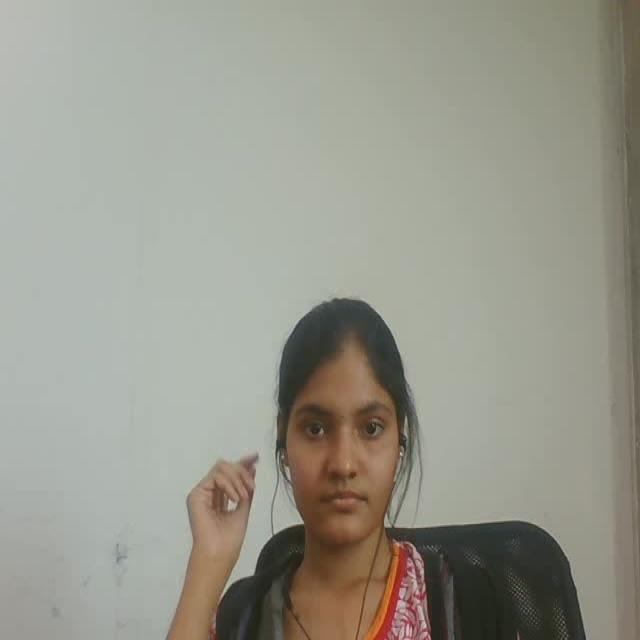Engaged: (260, 274, 438, 583)
